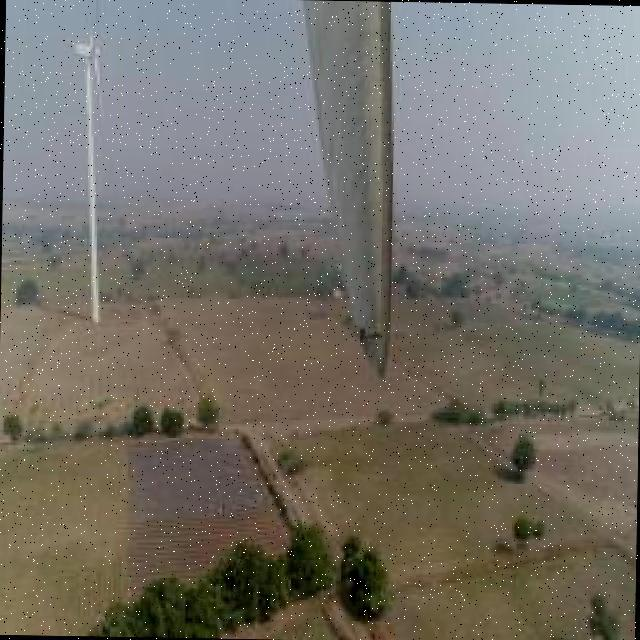Dirt: (305, 0, 392, 379)
Pin Hole: (352, 323, 388, 346)
